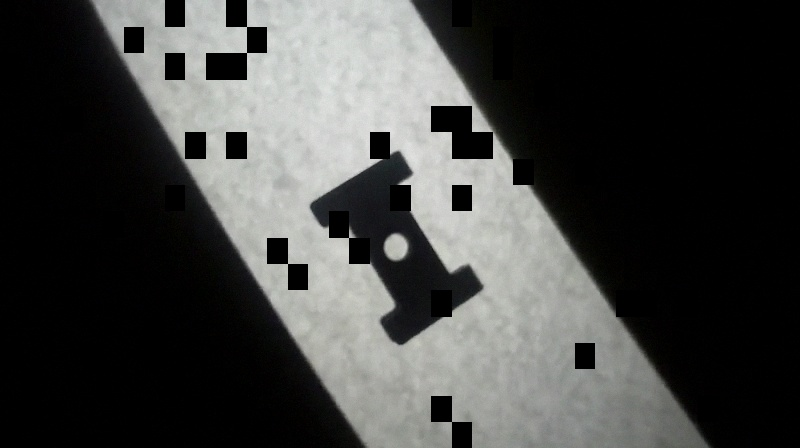O002: (304, 147, 487, 347)
